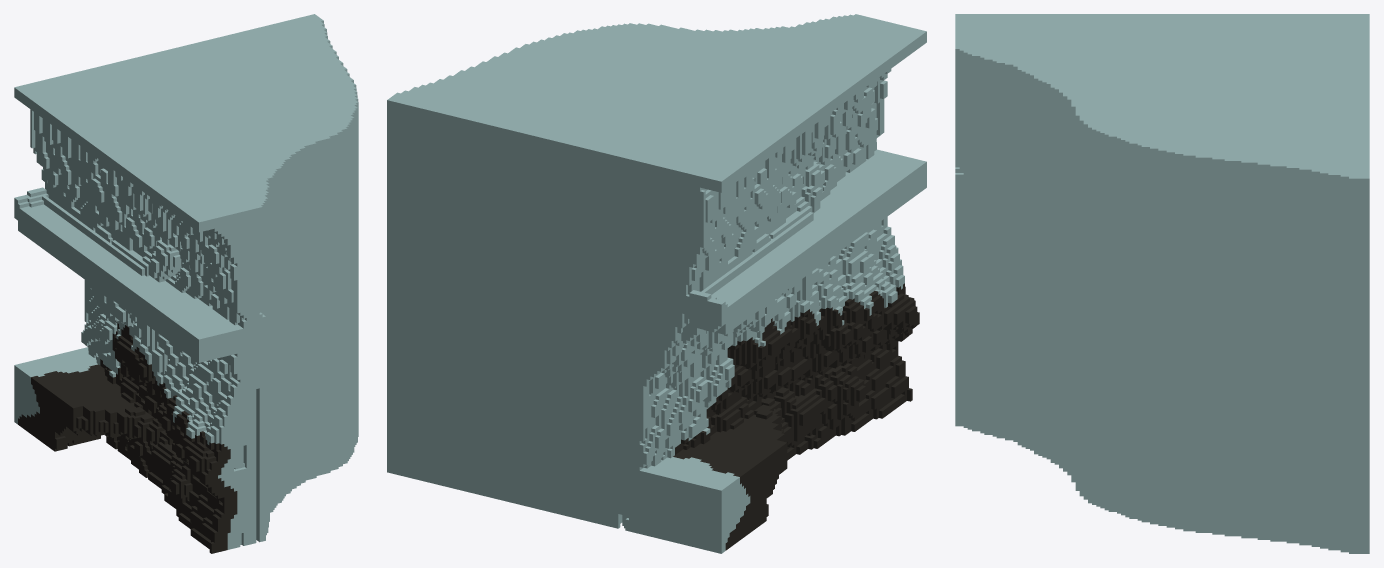
File: TerrainPieces-21.obj
The picture shows the model from 3 angles, left to right: view 1: azimuth 30°, elevation 25°; view 2: azimuth 150°, elevation 25°; view 3: azimuth 270°, elevation 25°; orthographic projection. The views are drawn at different scales.
Parts seen in each view (by area): view 1: TerrainPieces-21; view 2: TerrainPieces-21; view 3: TerrainPieces-21.
Boxes of the visible parts, x1,y1,x2,y2 form: TerrainPieces-21: [14, 14, 358, 553]; TerrainPieces-21: [387, 14, 926, 553]; TerrainPieces-21: [955, 14, 1369, 553].
Size of the model in its own units: 94 by 100 by 100.
Materials: 1 (1 with a texture image).
